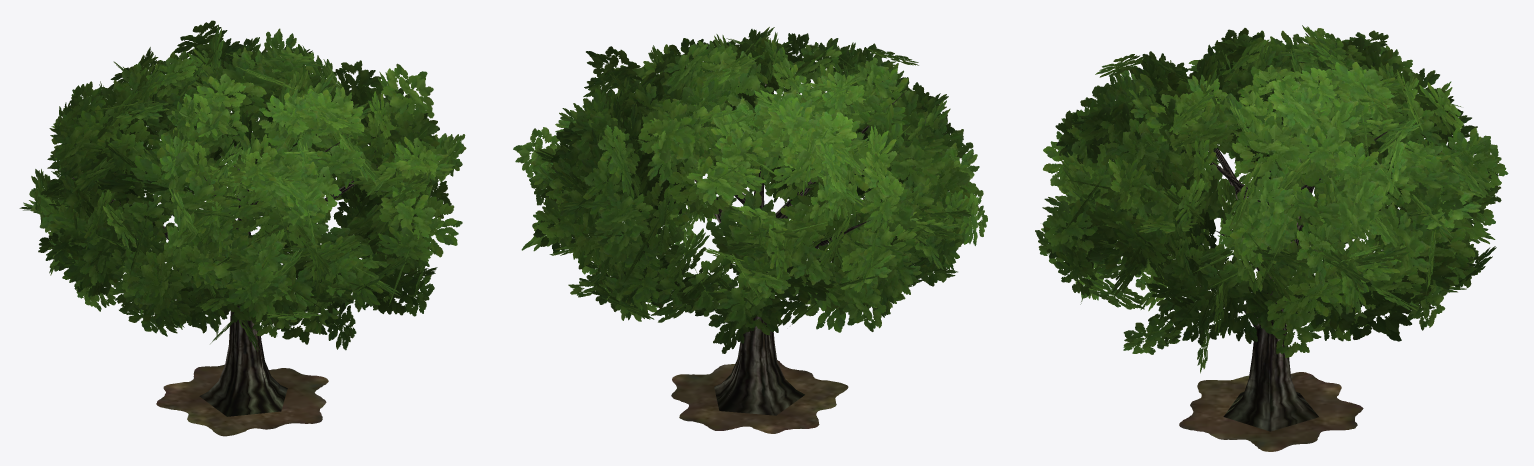
The model's file is oak-dense-lite.glb.
3 renders of one model, left to right at view 1: azimuth 30°, elevation 25°; view 2: azimuth 150°, elevation 25°; view 3: azimuth 270°, elevation 25°, orthographic. The views are drawn at different scales.
Visible parts, largest first — view 1: oak_dense_lite; view 2: oak_dense_lite; view 3: oak_dense_lite.
Part boxes in pixels (x1,y1,x2,y2): oak_dense_lite: [19, 20, 466, 436]; oak_dense_lite: [513, 27, 987, 433]; oak_dense_lite: [1035, 25, 1508, 451].
Size of the model in its own units: 13.08 by 10.55 by 12.55.
1 material, 1 textured.
